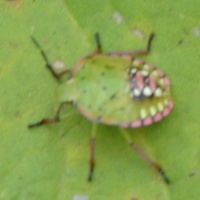insect: (28, 33, 173, 180)
